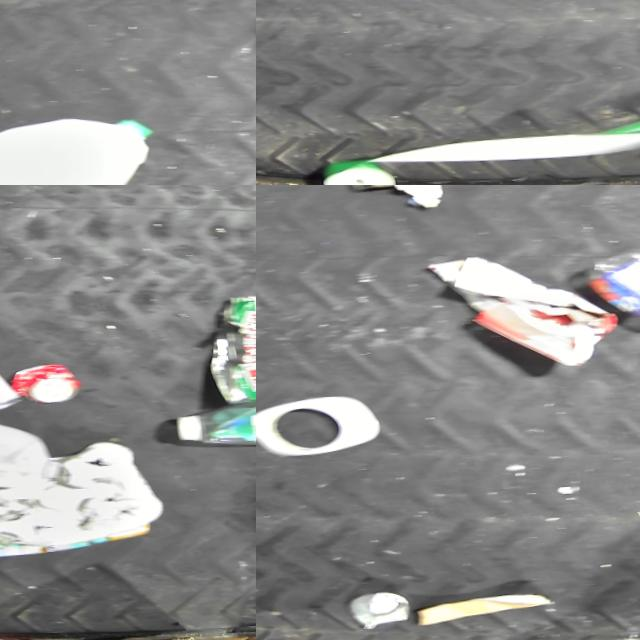can: (9, 356, 84, 405), (0, 346, 27, 419)
milk_jug: (0, 109, 159, 185), (0, 398, 61, 492)
plastic_bottle: (172, 376, 256, 446), (585, 244, 640, 345)
